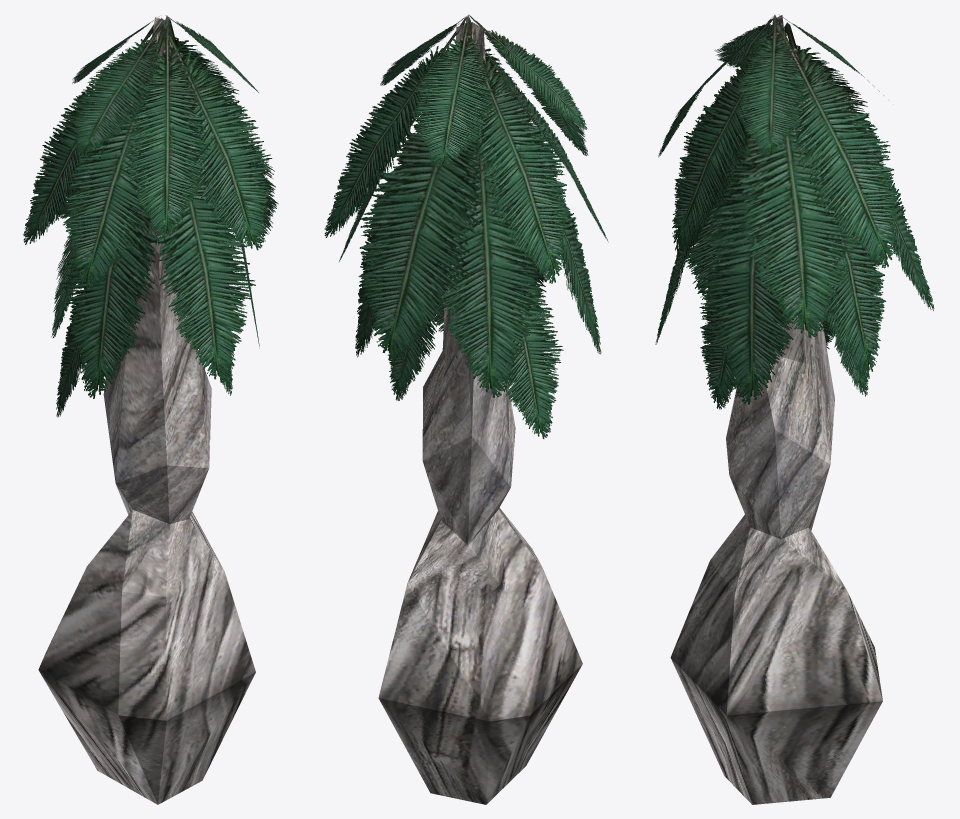
File: decd_boffa_big_l2.fbx
3 renders of one model, left to right at view 1: azimuth 30°, elevation 25°; view 2: azimuth 150°, elevation 25°; view 3: azimuth 270°, elevation 25°, orthographic. The views are drawn at different scales.
Visible parts, largest first — view 1: mesh_node; view 2: mesh_node; view 3: mesh_node.
Part boxes in pixels (x1=…): mesh_node: x1=23, y1=15, x2=278, y2=804; mesh_node: x1=324, y1=14, x2=608, y2=804; mesh_node: x1=655, y1=15, x2=934, y2=804.
Bounding box in the file's own units: 6.56 × 19.65 × 6.81.
